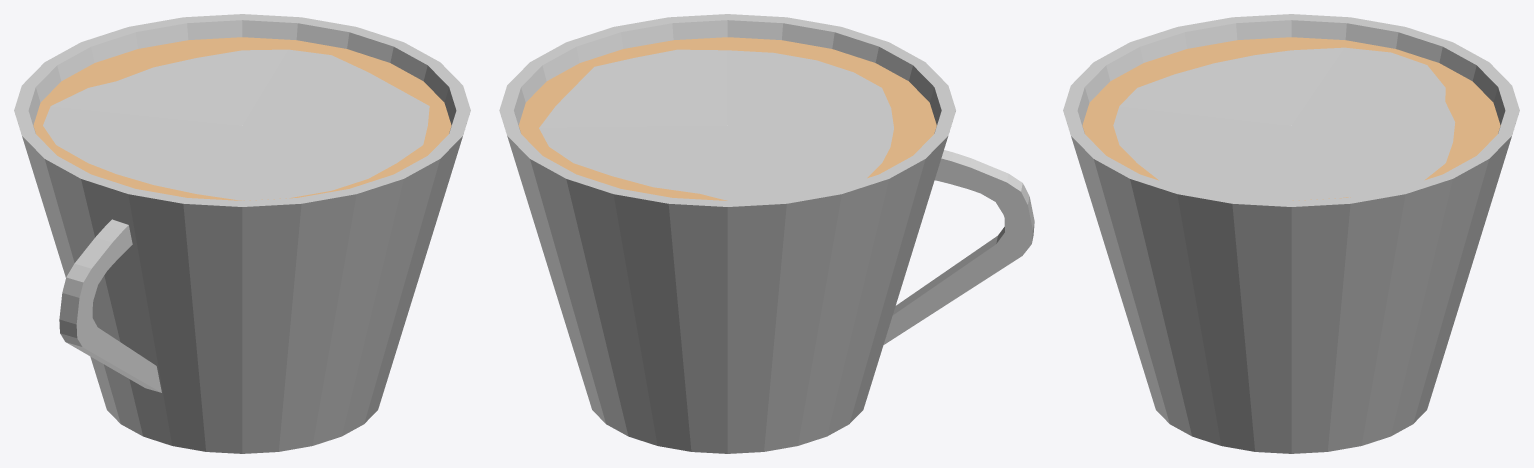
The model's file is a5b6bf91-4206-4ebc-8ec7-dbe1b24df71e.glb.
3 renders of one model, left to right at view 1: azimuth 30°, elevation 25°; view 2: azimuth 150°, elevation 25°; view 3: azimuth 270°, elevation 25°, orthographic.
Visible parts, largest first — view 1: Cylinder001, Object001, Box001; view 2: Cylinder001, Object001, Box001; view 3: Cylinder001, Object001.
Boxes of the visible parts, x1,y1,x2,y2 form: Cylinder001: (14,14,470,453); Object001: (33,37,451,200); Box001: (59,219,161,392); Cylinder001: (499,14,955,453); Object001: (518,37,936,200); Box001: (883,150,1034,344); Cylinder001: (1063,14,1519,453); Object001: (1082,37,1500,200).
Bounding box in the file's own units: 399791 × 245605 × 357965.
